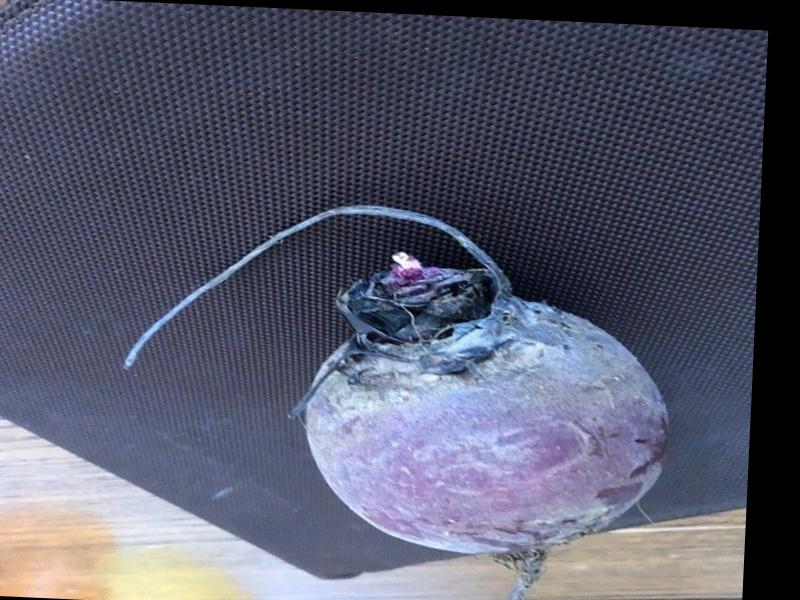Beet: (112, 194, 680, 600)
